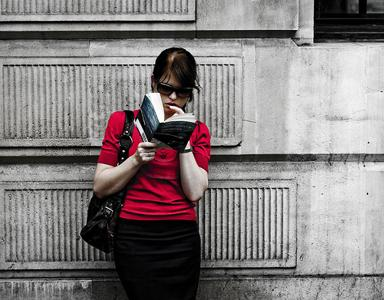person: (94, 47, 213, 300)
